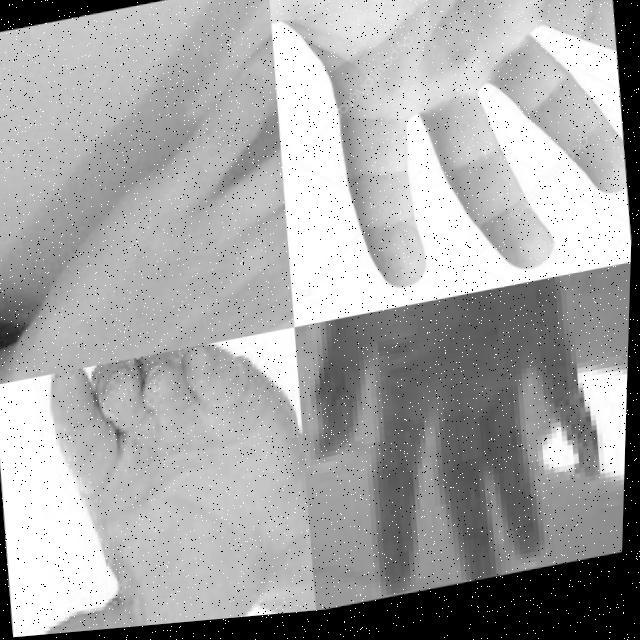no-gloves: (259, 0, 640, 323), (0, 20, 303, 385), (296, 280, 616, 618), (7, 331, 327, 638)
